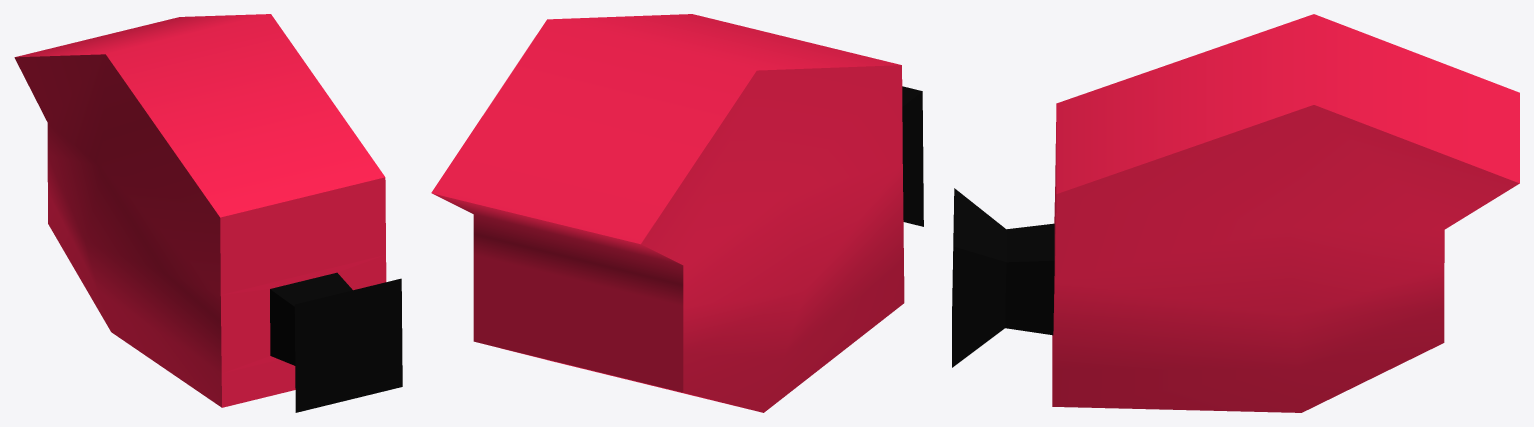
The model's file is standard_node.FBX.
The picture shows the model from 3 angles, left to right: view 1: azimuth 30°, elevation 25°; view 2: azimuth 150°, elevation 25°; view 3: azimuth 270°, elevation 25°; orthographic projection. The views are drawn at different scales.
Visible parts, largest first — view 1: Box009; view 2: Box009; view 3: Box009.
Boxes of the visible parts, <box> form: Box009: <box>14,14,402,412</box>; Box009: <box>431,14,923,412</box>; Box009: <box>952,14,1519,412</box>.
Size of the model in its own units: 60.04 by 70.37 by 117.
